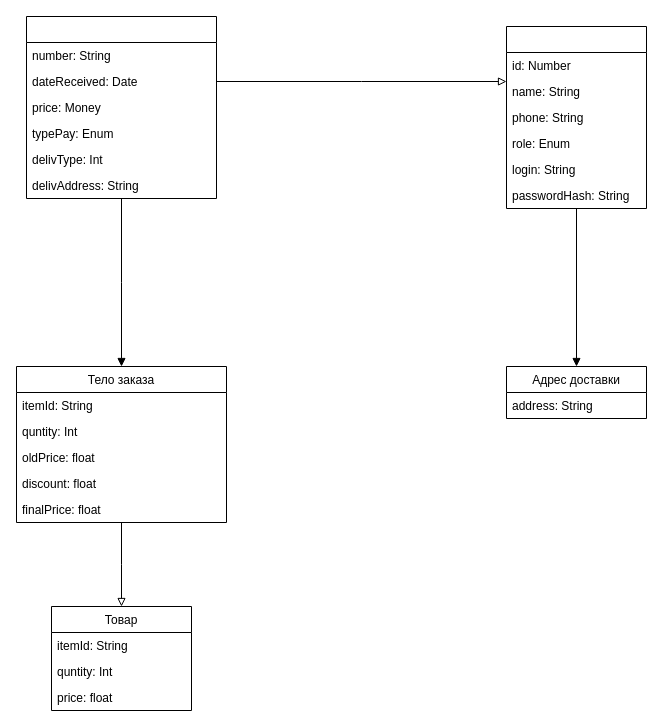
Some shapes in this 663 by 727 pixel diagram are drawn without their labels. The box of each missing label's shape, as (x1, y1, x2, y2) in pixels:
Заказ: (26, 16, 216, 198)
Клиент: (506, 26, 646, 208)
